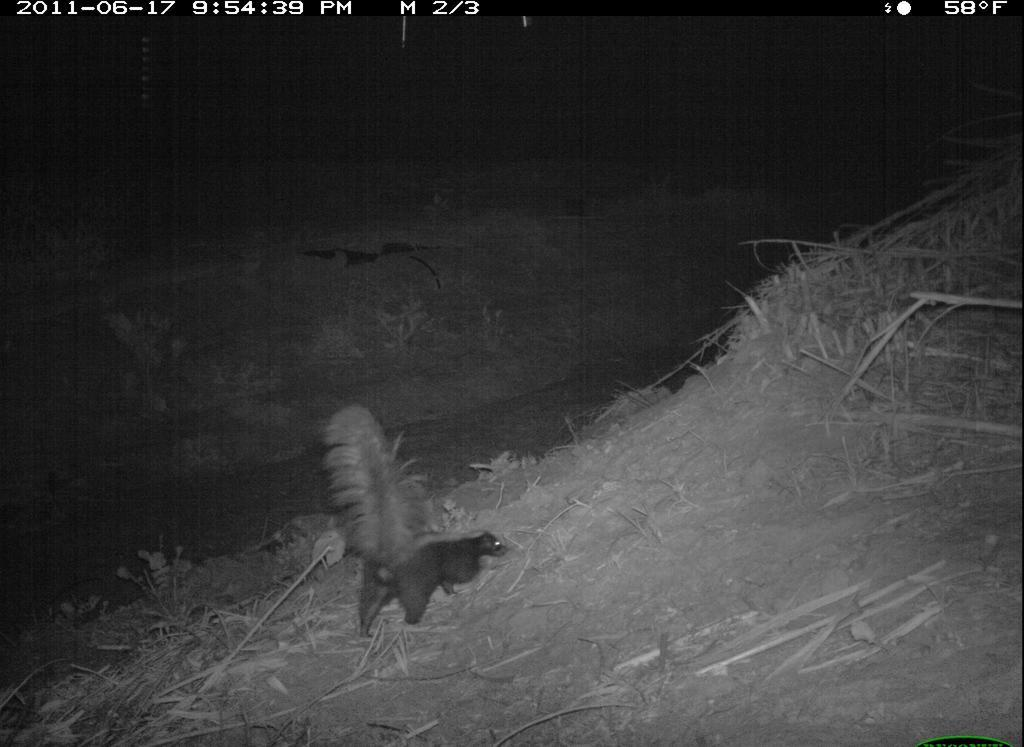skunk: (319, 401, 511, 637)
